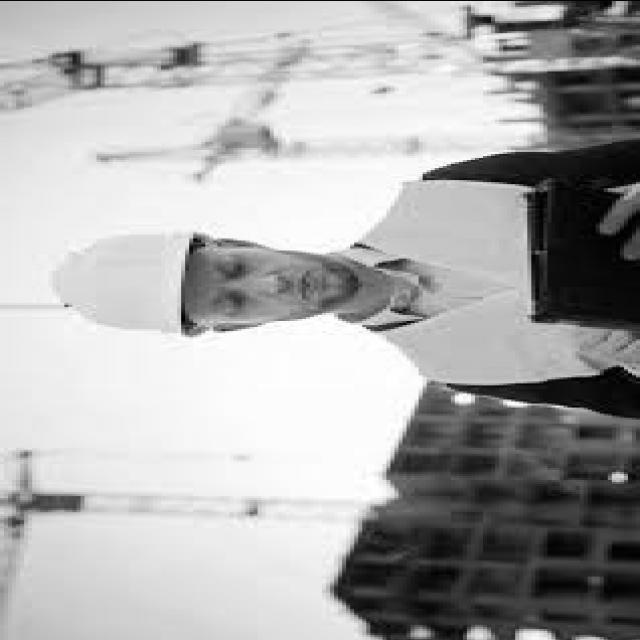safety_helmet: (52, 231, 189, 332)
